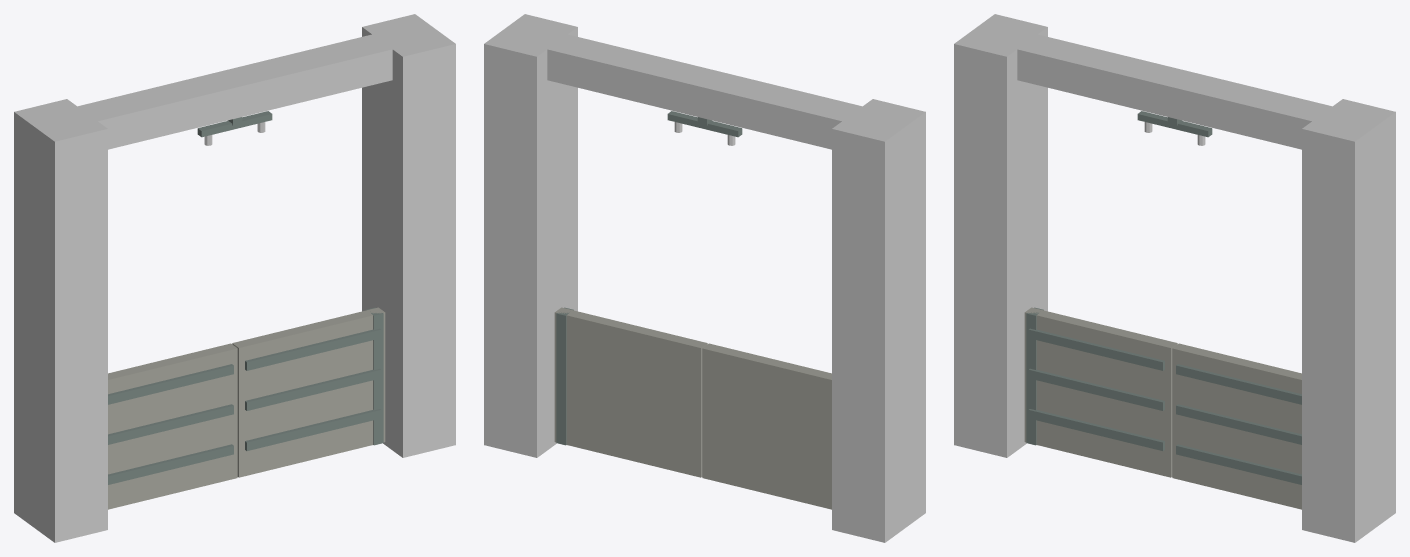
The model's file is SM_PuertaVia_v4_Blindada_e0_Sano_LOD0.fbx.
3 renders of one model, left to right at view 1: azimuth 30°, elevation 25°; view 2: azimuth 150°, elevation 25°; view 3: azimuth 330°, elevation 25°, orthographic.
Visible parts, largest first — view 1: SM_bloques.puerta_via_v16_LOD0, Hoja_E, Hoja_O; view 2: SM_bloques.puerta_via_v16_LOD0, Hoja_E, Hoja_O; view 3: SM_bloques.puerta_via_v16_LOD0, Hoja_O, Hoja_E.
Part boxes in pixels (left/top/right/bottom): SM_bloques.puerta_via_v16_LOD0: left=14, top=14, right=455, bottom=542; Hoja_E: left=232, top=307, right=385, bottom=477; Hoja_O: left=108, top=343, right=237, bottom=509; SM_bloques.puerta_via_v16_LOD0: left=484, top=14, right=925, bottom=542; Hoja_E: left=554, top=307, right=707, bottom=477; Hoja_O: left=702, top=343, right=831, bottom=509; SM_bloques.puerta_via_v16_LOD0: left=954, top=14, right=1395, bottom=542; Hoja_O: left=1024, top=307, right=1177, bottom=477; Hoja_E: left=1172, top=343, right=1301, bottom=509.
Size of the model in its own units: 6.8 by 6.5 by 1.2.
